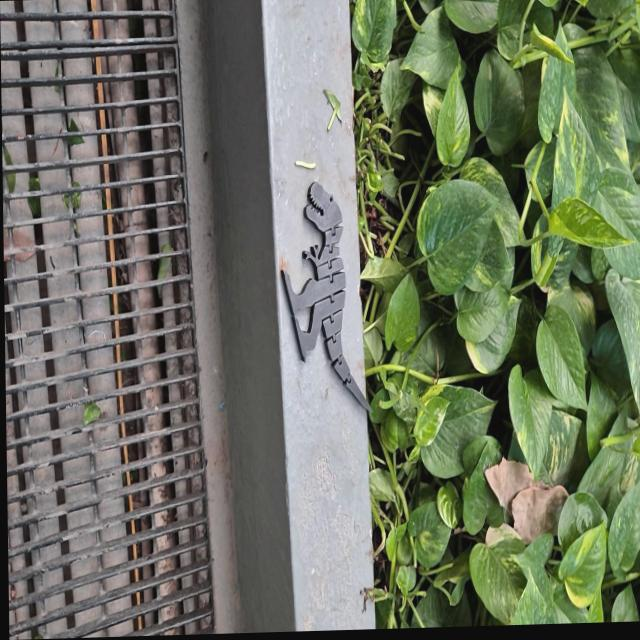dino: (278, 177, 374, 416)
